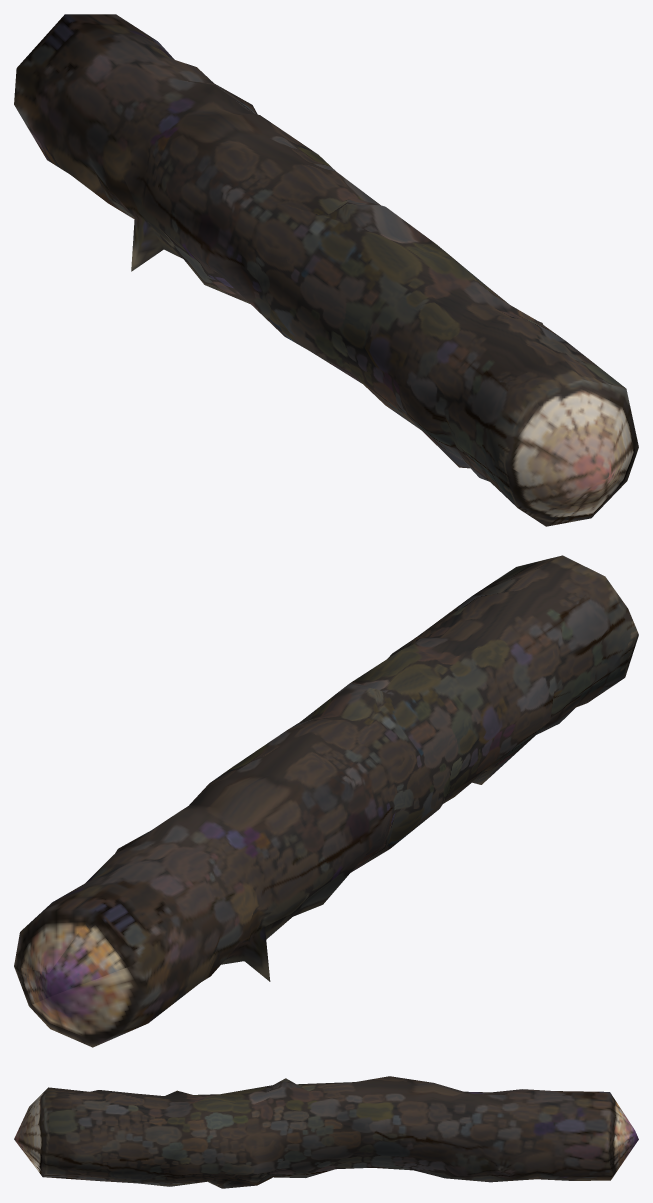
File: wood_log_1.fbx
3 views of the same model, one above another, from view 1: azimuth 30°, elevation 25°; view 2: azimuth 150°, elevation 25°; view 3: azimuth 270°, elevation 25° (orthographic). The views are drawn at different scales.
Parts seen in each view (by area): view 1: wood_log_1; view 2: wood_log_1; view 3: wood_log_1.
Boxes of the visible parts, x1=… form: wood_log_1: x1=14, y1=14, x2=638, y2=526; wood_log_1: x1=14, y1=555, x2=638, y2=1047; wood_log_1: x1=14, y1=1076, x2=638, y2=1188.
Bounding box in the file's own units: 18.08 × 19.03 × 105.
